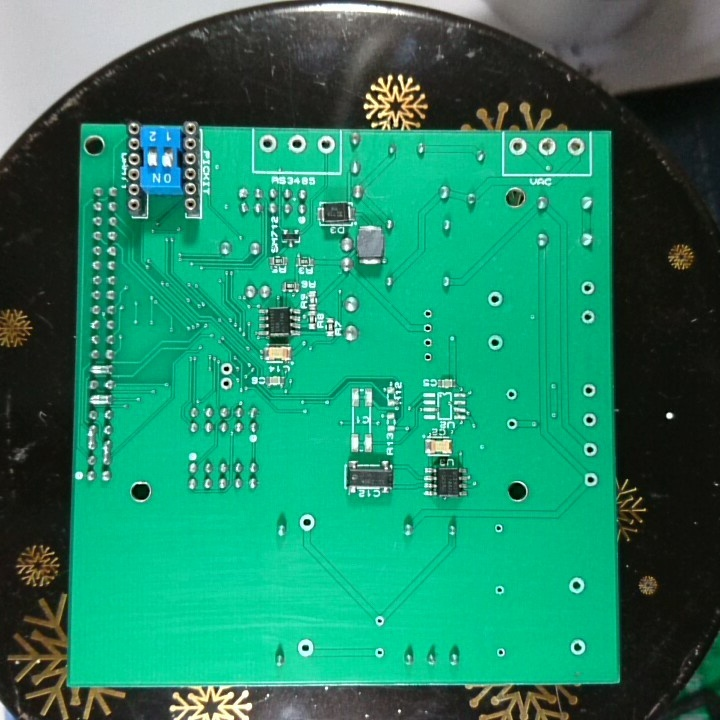F: (565, 135, 588, 158), (284, 133, 308, 155), (295, 637, 316, 660), (507, 135, 528, 158), (315, 134, 338, 155), (297, 512, 317, 535), (536, 137, 559, 157), (257, 133, 277, 156), (565, 574, 586, 595), (485, 332, 505, 353), (577, 307, 597, 328), (568, 638, 590, 657), (486, 289, 505, 311), (580, 380, 598, 402), (582, 469, 600, 489), (582, 440, 600, 459), (502, 384, 519, 403), (579, 279, 596, 298), (218, 360, 236, 377), (581, 411, 598, 429), (419, 305, 437, 321), (491, 581, 506, 600), (218, 375, 234, 392), (372, 643, 386, 662), (419, 320, 436, 335), (372, 613, 387, 629), (419, 335, 435, 350), (505, 416, 519, 432), (421, 350, 435, 365), (492, 520, 505, 536), (494, 645, 507, 660)
P: (86, 392, 114, 406), (85, 423, 99, 451), (100, 438, 114, 466), (87, 362, 116, 375)
